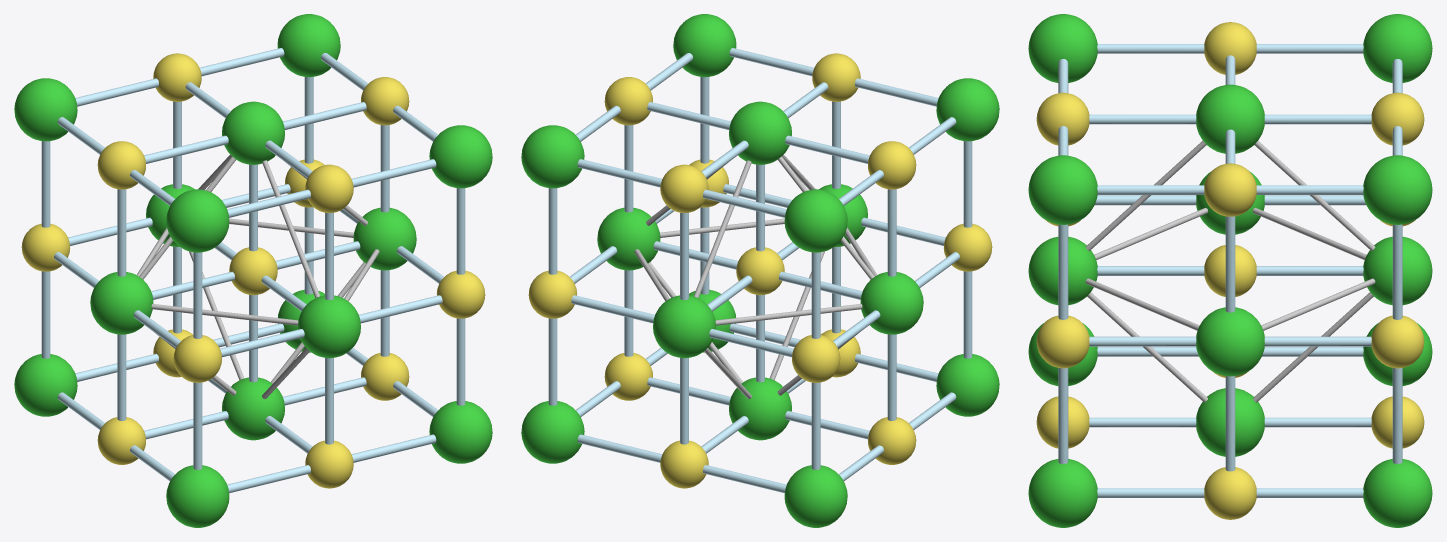
File: index.gltf
3 renders of one model, left to right at view 1: azimuth 30°, elevation 25°; view 2: azimuth 150°, elevation 25°; view 3: azimuth 270°, elevation 25°, orthographic. The views are drawn at different scales.
Visible parts, largest first — view 1: node_daqiu018_-23788, node_daqiu022_-23794, node_daqiu017_-23786, node_daqiu021_-23792, node_daqiu028_-23742, node_daqiu016_-23784, node_daqiu020_-23790, node_daqiu015_-23782, node_daqiu025_-23736, node_daqiu019_-23732, node_daqiu023_-23734, node_daqiu026_-23738 (+54 smaller); view 2: node_daqiu016_-23784, node_daqiu020_-23790, node_daqiu015_-23782, node_daqiu024_-23796, node_daqiu027_-23740, node_daqiu018_-23788, node_daqiu022_-23794, node_daqiu017_-23786, node_daqiu025_-23736, node_daqiu019_-23732, node_daqiu023_-23734, node_daqiu026_-23738 (+54 smaller); view 3: node_daqiu015_-23782, node_daqiu017_-23786, node_daqiu026_-23738, node_daqiu021_-23792, node_daqiu024_-23796, node_daqiu019_-23732, node_daqiu016_-23784, node_daqiu018_-23788, node_daqiu023_-23734, node_daqiu028_-23742, node_daqiu027_-23740, node_xiaoqiu024_-23912 (+44 smaller).
Part boxes in pixels (left/top/right/bottom): node_daqiu018_-23788: left=166, top=189, right=229, bottom=252; node_daqiu022_-23794: left=166, top=465, right=229, bottom=527; node_daqiu017_-23786: left=429, top=125, right=492, bottom=188; node_daqiu021_-23792: left=429, top=401, right=492, bottom=463; node_daqiu028_-23742: left=298, top=295, right=360, bottom=358; node_daqiu016_-23784: left=14, top=78, right=77, bottom=141; node_daqiu020_-23790: left=14, top=354, right=77, bottom=416; node_daqiu015_-23782: left=277, top=14, right=340, bottom=77; node_daqiu025_-23736: left=90, top=272, right=153, bottom=334; node_daqiu019_-23732: left=222, top=101, right=284, bottom=164; node_daqiu023_-23734: left=222, top=377, right=284, bottom=440; node_daqiu026_-23738: left=353, top=207, right=416, bottom=270; node_daqiu016_-23784: left=784, top=189, right=847, bottom=252; node_daqiu020_-23790: left=784, top=465, right=847, bottom=527; node_daqiu015_-23782: left=521, top=125, right=584, bottom=188; node_daqiu024_-23796: left=521, top=401, right=584, bottom=463; node_daqiu027_-23740: left=653, top=295, right=715, bottom=358; node_daqiu018_-23788: left=936, top=78, right=999, bottom=141; node_daqiu022_-23794: left=936, top=354, right=999, bottom=416; node_daqiu017_-23786: left=673, top=14, right=736, bottom=77; node_daqiu025_-23736: left=860, top=272, right=923, bottom=334; node_daqiu019_-23732: left=729, top=101, right=791, bottom=164; node_daqiu023_-23734: left=729, top=377, right=791, bottom=440; node_daqiu026_-23738: left=597, top=207, right=660, bottom=270; node_daqiu015_-23782: left=1363, top=155, right=1432, bottom=224; node_daqiu017_-23786: left=1028, top=155, right=1097, bottom=224; node_daqiu026_-23738: left=1196, top=307, right=1264, bottom=376; node_daqiu021_-23792: left=1028, top=459, right=1097, bottom=527; node_daqiu024_-23796: left=1363, top=459, right=1432, bottom=527; node_daqiu019_-23732: left=1196, top=84, right=1264, bottom=153; node_daqiu016_-23784: left=1363, top=14, right=1432, bottom=82; node_daqiu018_-23788: left=1028, top=14, right=1097, bottom=82; node_daqiu023_-23734: left=1196, top=388, right=1264, bottom=456; node_daqiu028_-23742: left=1028, top=236, right=1097, bottom=305; node_daqiu027_-23740: left=1363, top=236, right=1432, bottom=305; node_xiaoqiu024_-23912: left=1204, top=163, right=1256, bottom=216.
Size of the model in its own units: 1.21 by 1.21 by 1.21.
